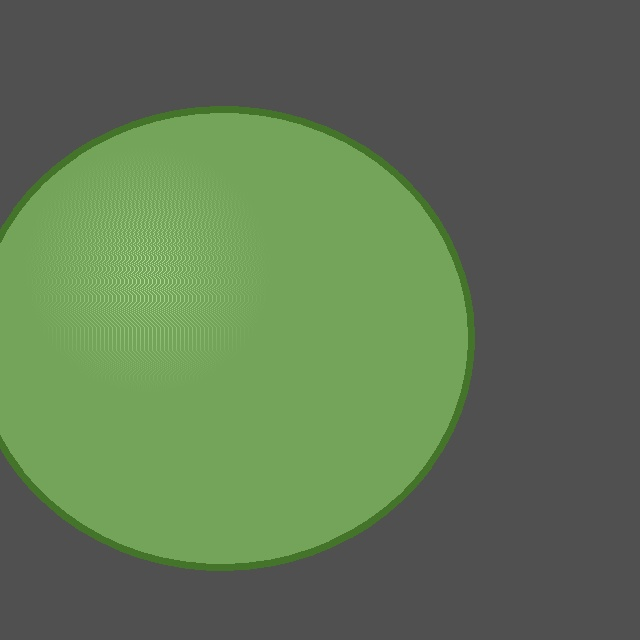lens: (0, 109, 471, 567)
